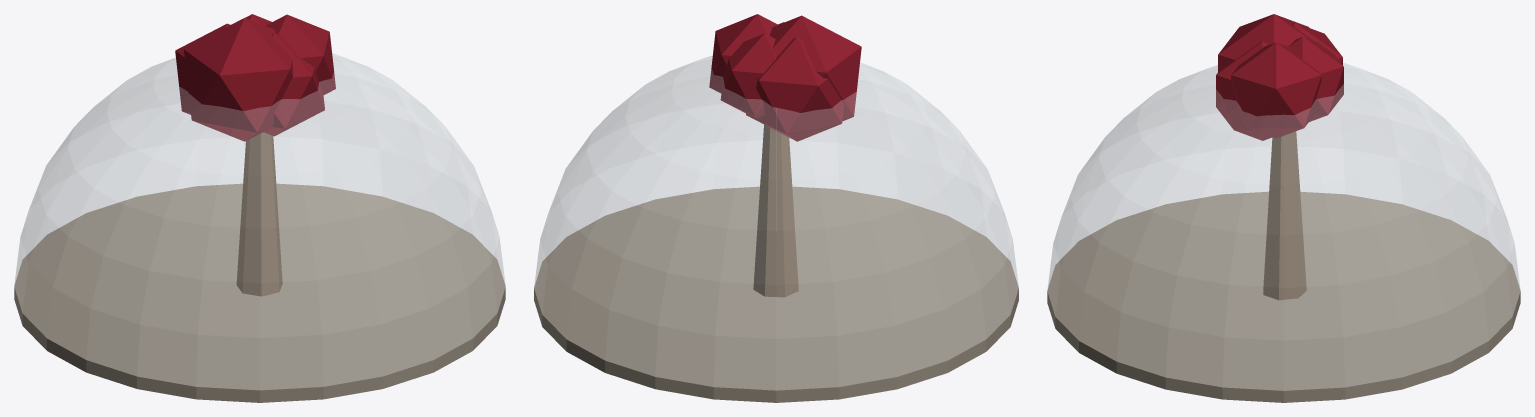
File: mulher-carmesim.glb
The picture shows the model from 3 angles, left to right: view 1: azimuth 30°, elevation 25°; view 2: azimuth 150°, elevation 25°; view 3: azimuth 270°, elevation 25°; orthographic projection. The views are drawn at different scales.
Parts seen in each view (by area): view 1: Dome_Glass, Dome_Base, Tree_Foliage, Tree_Trunk; view 2: Dome_Glass, Dome_Base, Tree_Foliage, Tree_Trunk; view 3: Dome_Glass, Dome_Base, Tree_Foliage, Tree_Trunk.
Part boxes in pixels (left/top/right/bottom): Dome_Glass: left=14, top=53, right=505, bottom=389; Dome_Base: left=14, top=183, right=505, bottom=402; Tree_Foliage: left=175, top=14, right=335, bottom=141; Tree_Trunk: left=236, top=132, right=282, bottom=296; Dome_Glass: left=534, top=55, right=1018, bottom=390; Dome_Base: left=534, top=186, right=1018, bottom=402; Tree_Foliage: left=709, top=14, right=861, bottom=141; Tree_Trunk: left=753, top=124, right=798, bottom=297; Dome_Glass: left=1047, top=63, right=1520, bottom=390; Dome_Base: left=1047, top=191, right=1520, bottom=402; Tree_Foliage: left=1216, top=14, right=1343, bottom=140; Tree_Trunk: left=1263, top=131, right=1306, bottom=300.
Size of the model in its own units: 2.84 by 1.85 by 2.84.
